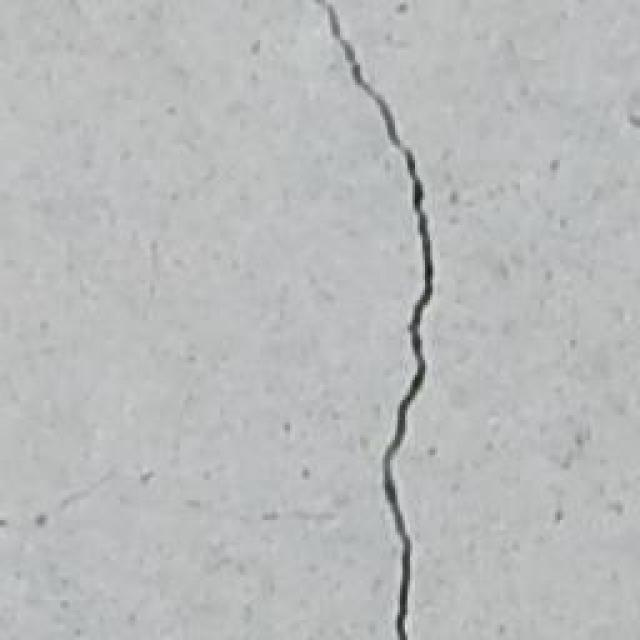concrete-crack: (312, 0, 432, 640)
